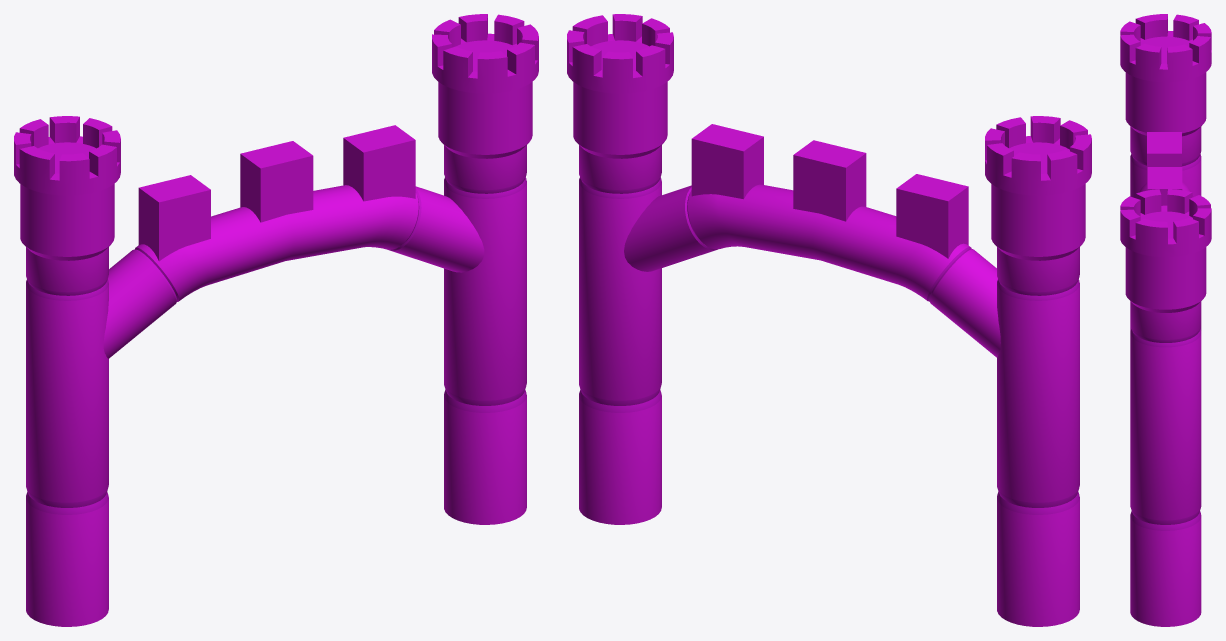
File: Tower1.fbx
The picture shows the model from 3 angles, left to right: view 1: azimuth 30°, elevation 25°; view 2: azimuth 150°, elevation 25°; view 3: azimuth 270°, elevation 25°; orthographic projection. The views are drawn at different scales.
Visible parts, largest first — view 1: Cylinder.023; view 2: Cylinder.023; view 3: Cylinder.023.
Part boxes in pixels (x1=…): Cylinder.023: x1=14, y1=14, x2=538, y2=626; Cylinder.023: x1=567, y1=14, x2=1091, y2=626; Cylinder.023: x1=1120, y1=14, x2=1211, y2=626.
Size of the model in its own units: 10.41 by 1.89 by 9.17.
